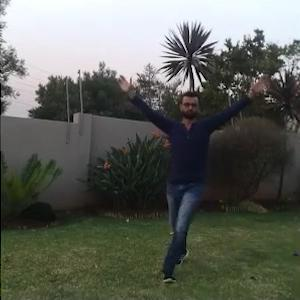takeoff: (115, 75, 272, 275)
